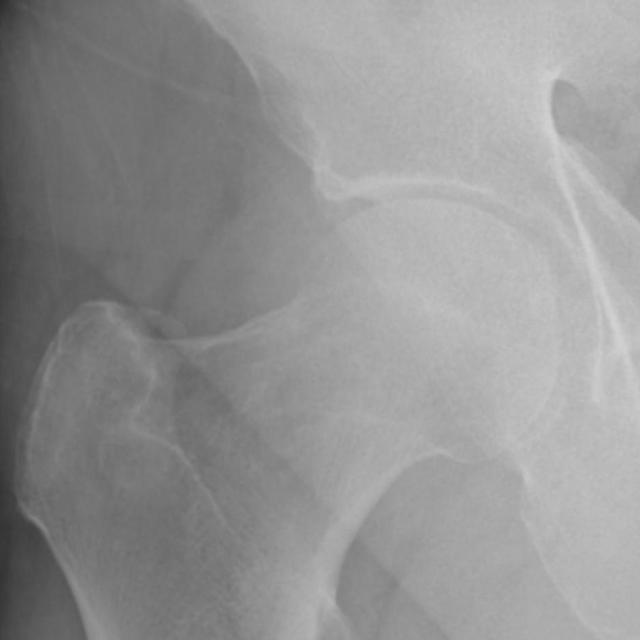Fitted_femural_head: (272, 192, 432, 272)
